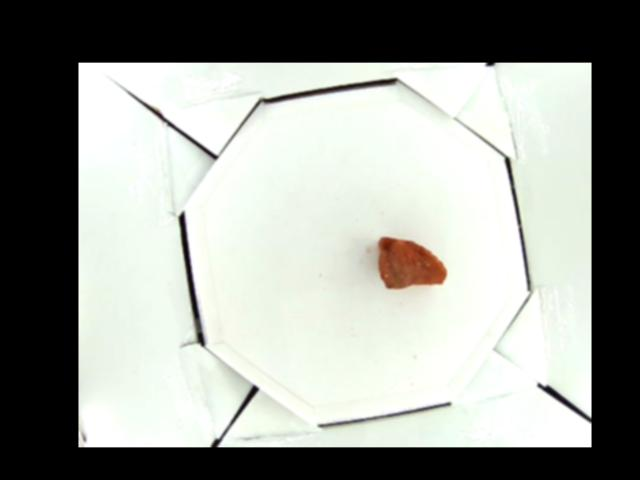Brisk: (377, 237, 449, 289)
